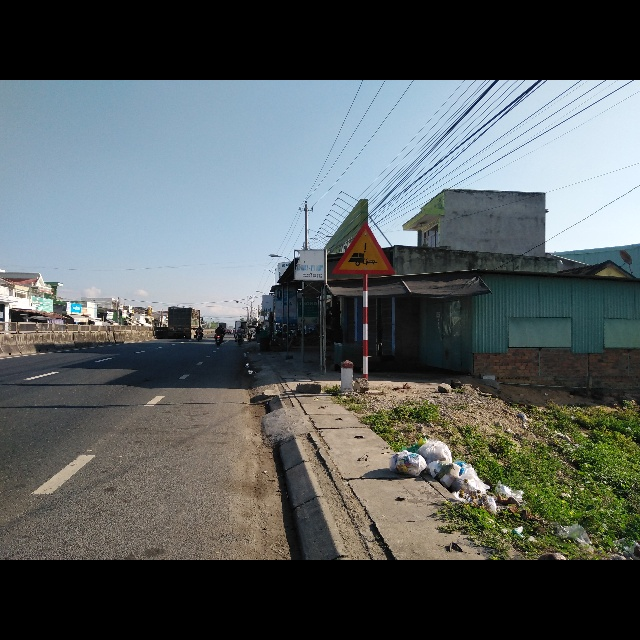Đoạn đường hay xảy ra tai nạn: (334, 222, 396, 276)
